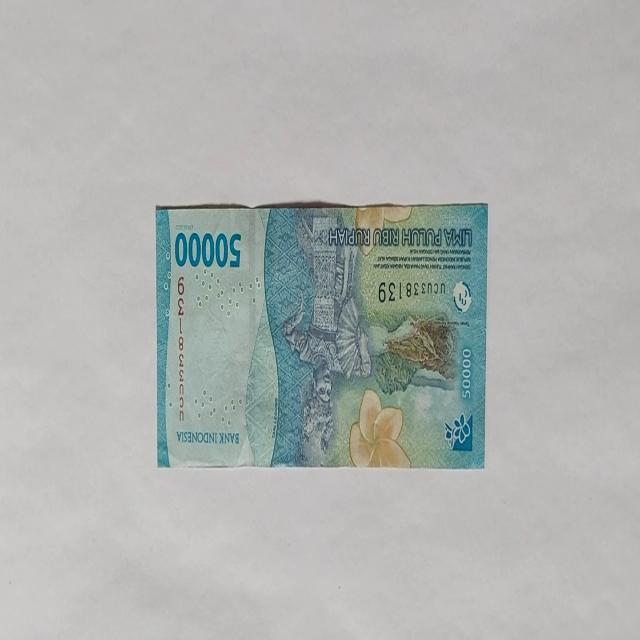lima puluh ribu rupiah: (155, 200, 489, 470), (174, 228, 242, 270)
